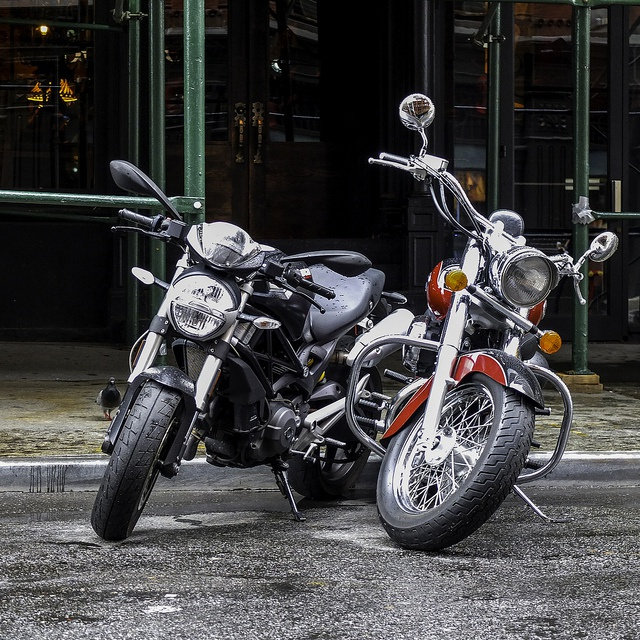non-vehicle: (339, 89, 622, 560), (89, 161, 408, 544)
